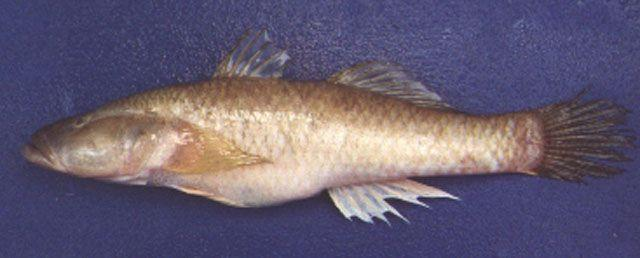Goby: (23, 22, 632, 224)
